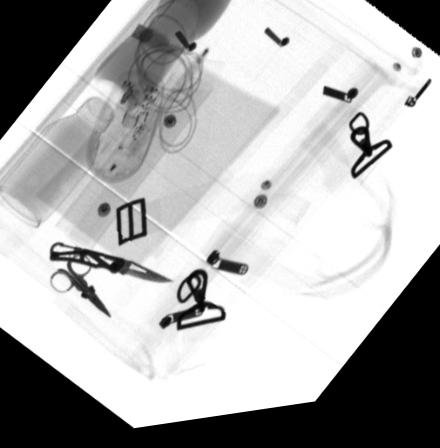Knife: (49, 245, 174, 287)
Scissors: (47, 254, 111, 322)
